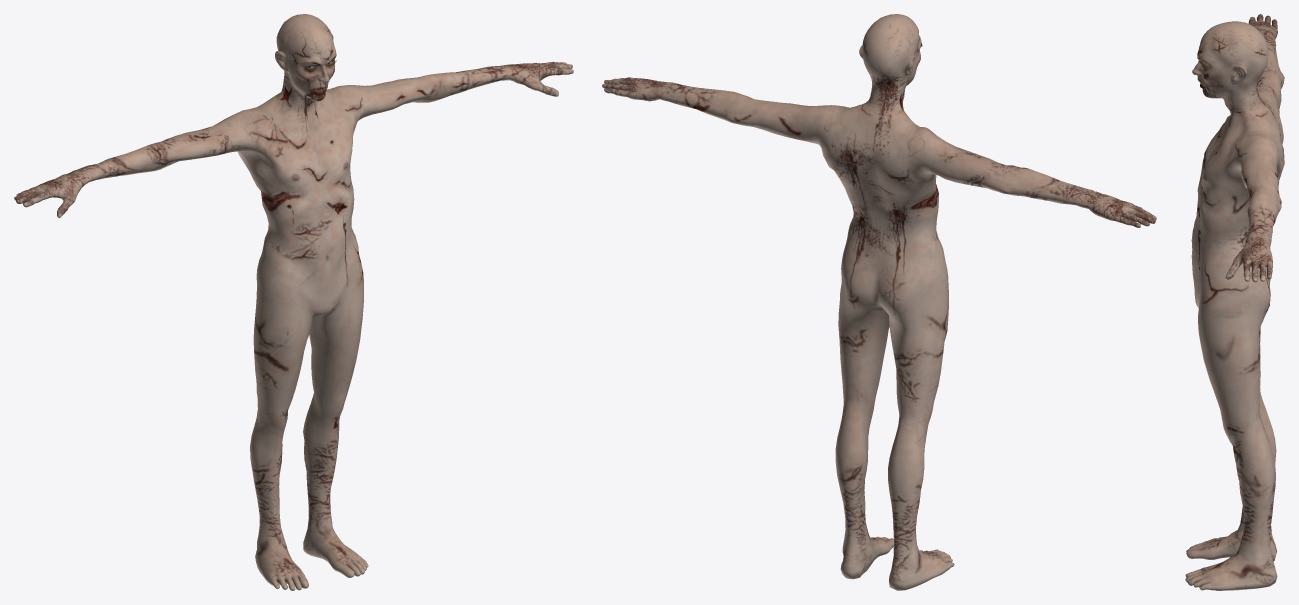
Rendered from Male_Zombie.obj.
The picture shows the model from 3 angles, left to right: view 1: azimuth 30°, elevation 25°; view 2: azimuth 150°, elevation 25°; view 3: azimuth 270°, elevation 25°; orthographic projection.
Visible parts, largest first — view 1: Body; view 2: Body; view 3: Body.
Part boxes in pixels (x1=…): Body: x1=14, y1=14, x2=573, y2=590; Body: x1=602, y1=14, x2=1156, y2=590; Body: x1=1185, y1=14, x2=1284, y2=590.
Bounding box in the file's own units: 187 × 179 × 29.29.
Materials: 1 (1 with a texture image).
